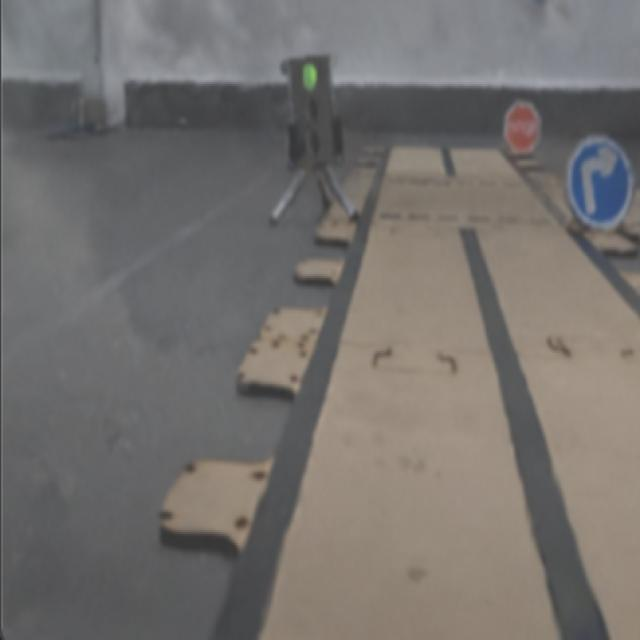RIGHT: (566, 137, 633, 229)
STOP: (503, 101, 541, 152)
